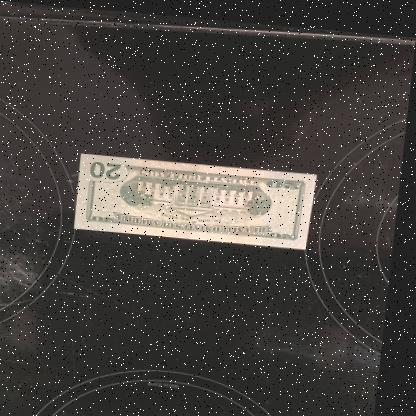twenty-back: (76, 150, 319, 243)
